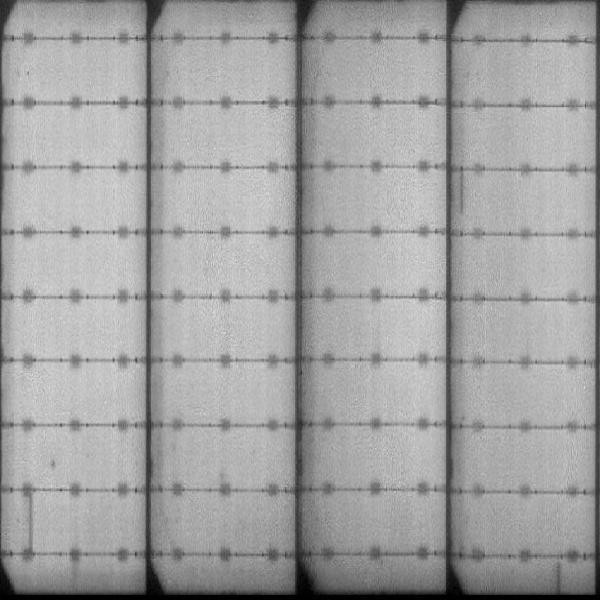scratch: (20, 495, 40, 552), (551, 563, 564, 597), (458, 165, 466, 213)
